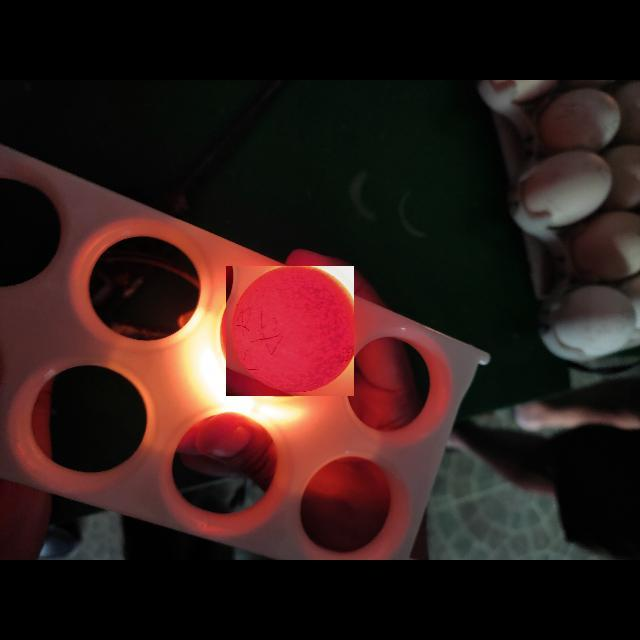A - Good: (226, 266, 354, 396)
